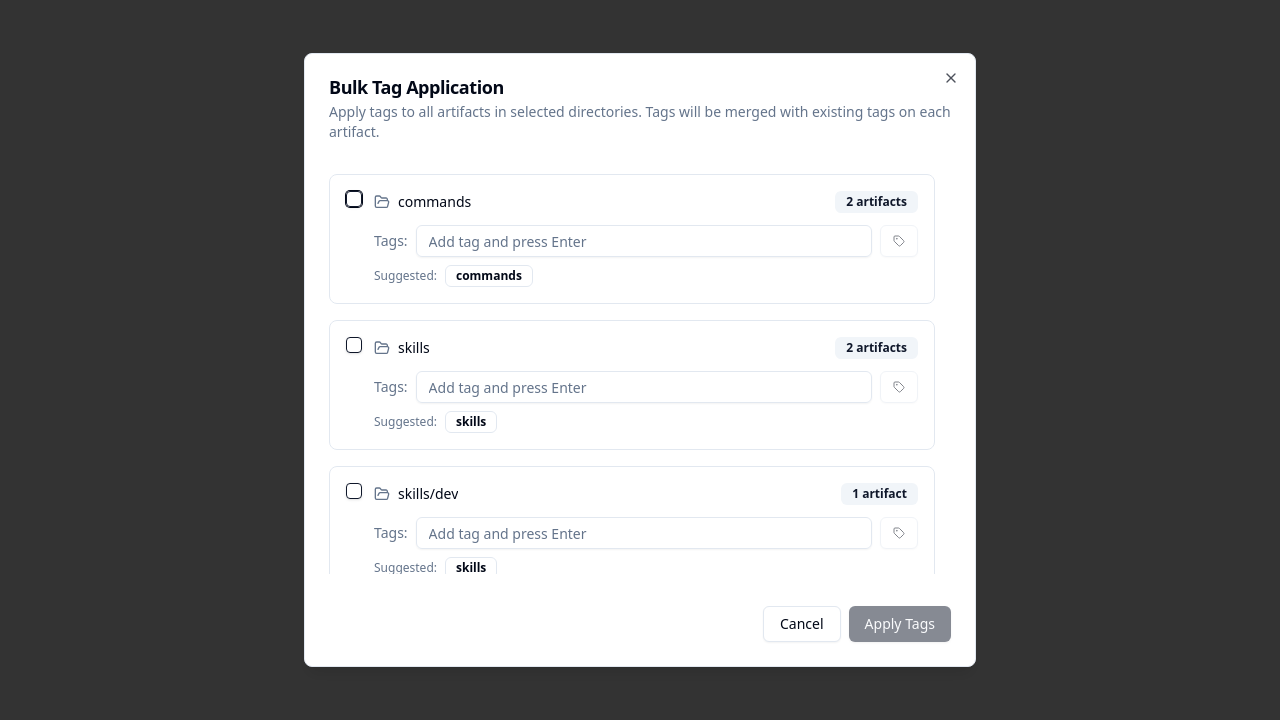
Test case: Bulk Tag Workflow Integration › Complete Workflow - Simulation Mode › handles using suggested tags from path
The image size is (1280, 720).
# Find and click a suggested tag (generated from path)
What coordinates should you click on to do the following:
click the list item with aria-label "add suggested tag skills"
I would click on:
 (471, 422)
Its box is [445,411,497,433].
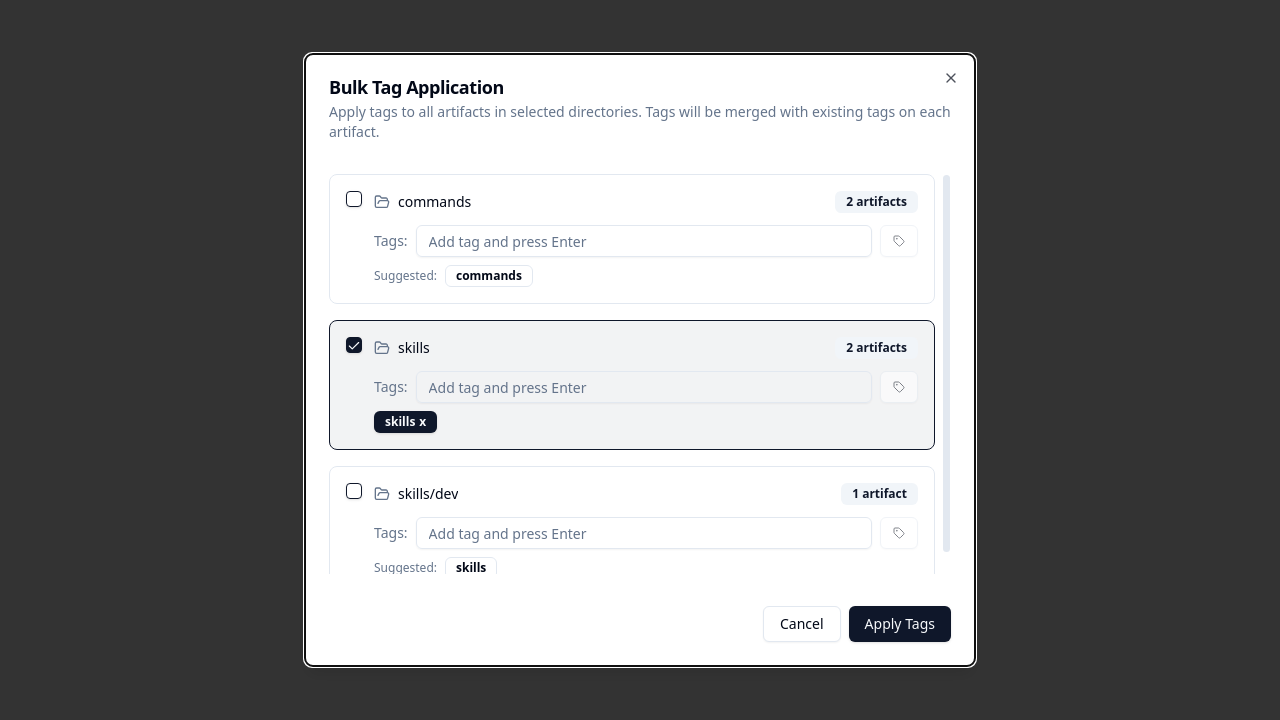
Expected: the text "skills" is shown, [398,341,430,355]
Result: the checkbox named "select skills" is checked at [346,337,362,353]
